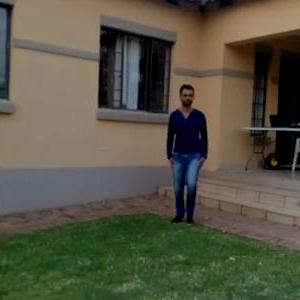follow: (164, 77, 209, 234)
